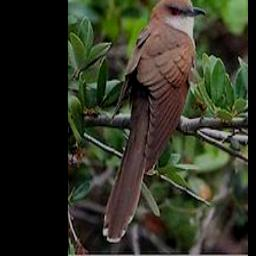Cuckoo: (103, 0, 206, 242)
